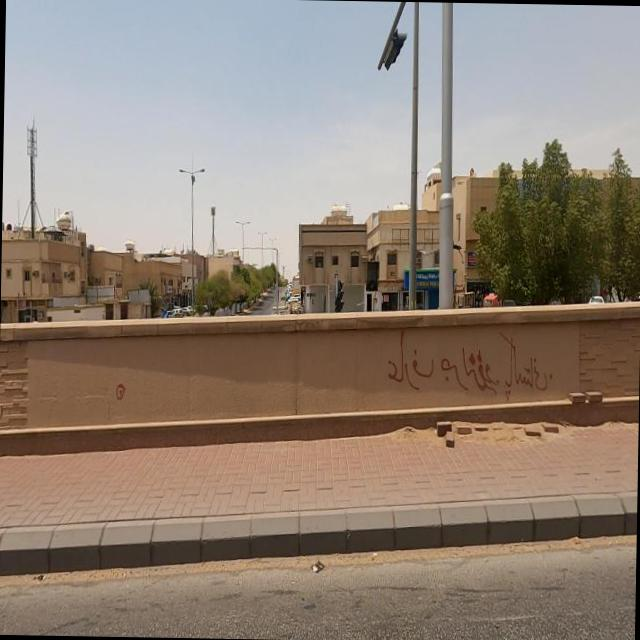debris: (286, 251, 640, 466)
